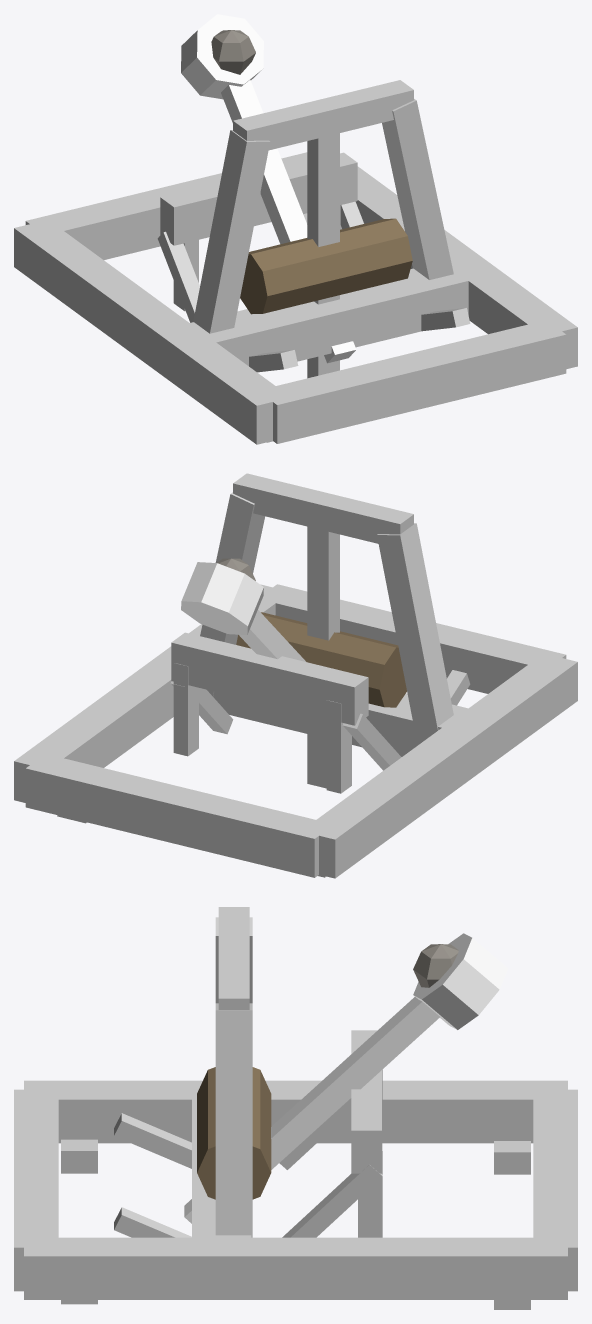
File: great_catapult.glb
The picture shows the model from 3 angles, top to bottom: view 1: azimuth 30°, elevation 25°; view 2: azimuth 150°, elevation 25°; view 3: azimuth 270°, elevation 25°; orthographic projection. The views are drawn at different scales.
Parts seen in each view (by area): view 1: SideRail_-1, CrossRail_-0.35, CenterBeam, TorsionBundle, AFrame_-1, SideRail_1, AFrame_1, TopCrossbar, CrossRail_0.35, StopBar, ThrowingArm.001, ThrowingArm (+5 smaller); view 2: SideRail_-1, CrossRail_0.35, StopBar, SideRail_1, AFrame_-1, CrossRail_-0.35, TopCrossbar, TorsionBundle, ThrowingArm, Spoon.001, CenterBeam, AFrame_1 (+6 smaller); view 3: SideRail_1, SideRail_-1, AFrame_1, CrossRail_0.35, CrossRail_-0.35, ThrowingArm.001, Spoon.001, TorsionBundle, TopCrossbar, StopBar, DiagBrace_1, RearBrace_-1 (+8 smaller).
Boxes of the visible parts, x1,y1,x2,y2 form: SideRail_-1: (14, 219, 290, 444); CrossRail_-0.35: (269, 320, 566, 443); CenterBeam: (190, 259, 486, 365); TorsionBundle: (240, 218, 412, 314); AFrame_-1: (193, 130, 270, 333); SideRail_1: (301, 156, 577, 369); AFrame_1: (382, 99, 453, 279); TopCrossbar: (233, 80, 413, 150); CrossRail_0.35: (25, 152, 307, 259); StopBar: (160, 152, 357, 245); ThrowingArm.001: (221, 80, 356, 363); ThrowingArm: (307, 133, 339, 378); SideRail_-1: (301, 653, 577, 878); CrossRail_0.35: (25, 754, 333, 877); StopBar: (171, 632, 368, 725); SideRail_1: (14, 584, 290, 802); AFrame_-1: (377, 523, 453, 745); CrossRail_-0.35: (262, 584, 566, 693); TopCrossbar: (233, 473, 413, 543); TorsionBundle: (236, 612, 406, 707); ThrowingArm: (307, 526, 339, 788); Spoon.001: (181, 562, 263, 634); CenterBeam: (213, 691, 485, 756); AFrame_1: (200, 492, 265, 696); SideRail_1: (24, 1237, 567, 1299); SideRail_-1: (24, 1080, 567, 1143); AFrame_1: (215, 1003, 252, 1237); CrossRail_0.35: (533, 1089, 577, 1291); CrossRail_-0.35: (14, 1089, 58, 1291); ThrowingArm.001: (184, 997, 439, 1223); Spoon.001: (413, 933, 508, 1029); TorsionBundle: (197, 1067, 271, 1199); TopCrossbar: (218, 907, 249, 1009); StopBar: (351, 1030, 381, 1173); DiagBrace_1: (282, 1164, 382, 1237); RearBrace_-1: (114, 1113, 191, 1168).
Bounding box in the file's own units: 0.672 × 0.5939 × 0.912.
